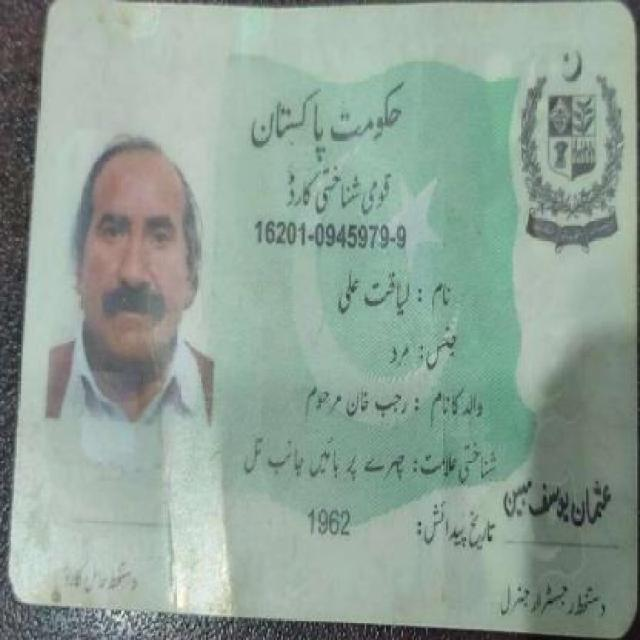Front: (18, 3, 628, 632)
